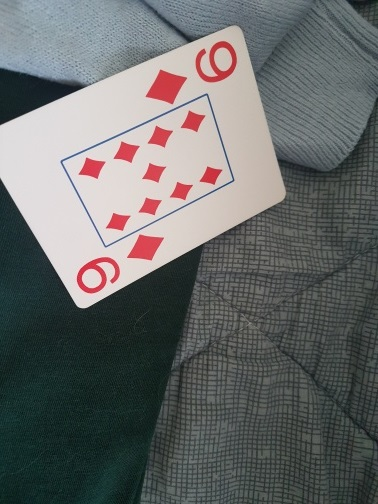nine: (1, 26, 286, 308)
